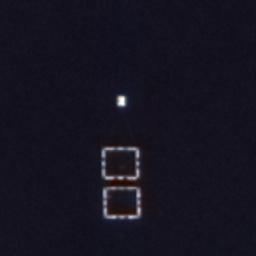square_solid: (99, 181, 146, 223), (98, 143, 144, 183)
